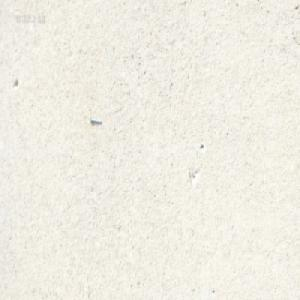Nail: (89, 115, 102, 123)
